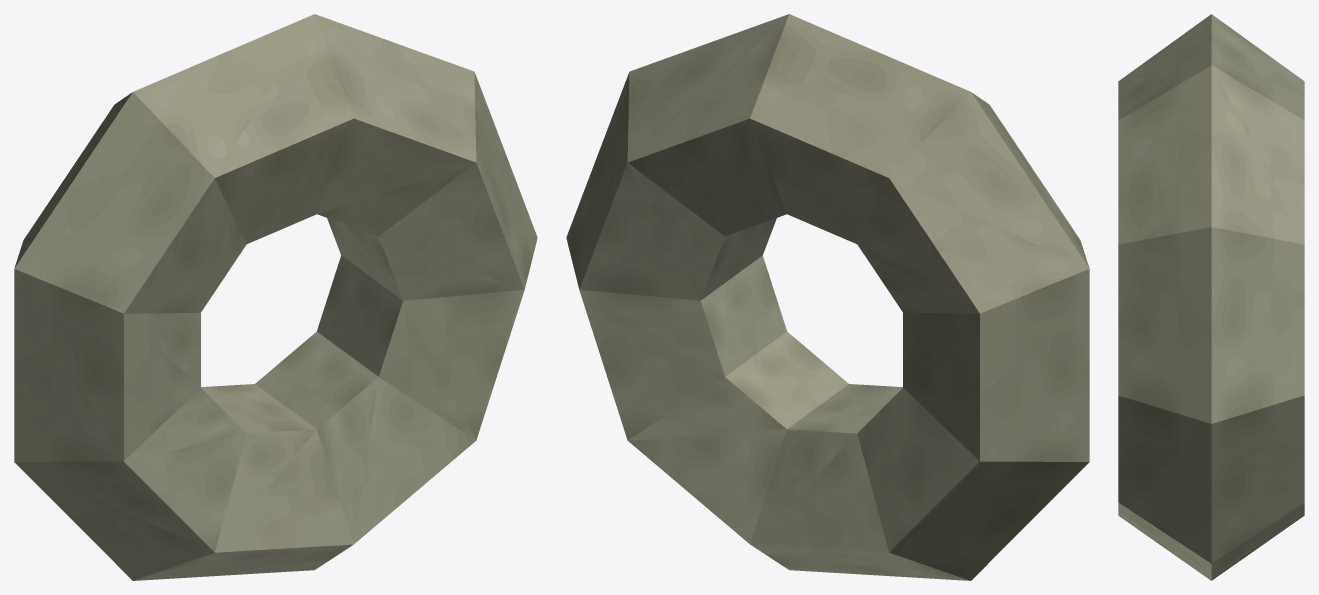
Rendered from pedra-furada-v02.gltf.
3 renders of one model, left to right at view 1: azimuth 30°, elevation 25°; view 2: azimuth 150°, elevation 25°; view 3: azimuth 270°, elevation 25°, orthographic. The views are drawn at different scales.
Parts seen in each view (by area): view 1: forma; view 2: forma; view 3: forma.
Boxes of the visible parts, bbox=[...] form: forma: bbox=[14, 14, 537, 580]; forma: bbox=[566, 14, 1089, 580]; forma: bbox=[1118, 14, 1304, 580].
Bounding box in the file's own units: 1.14 × 1.16 × 0.3804.
Materials: 1 (1 with a texture image).
